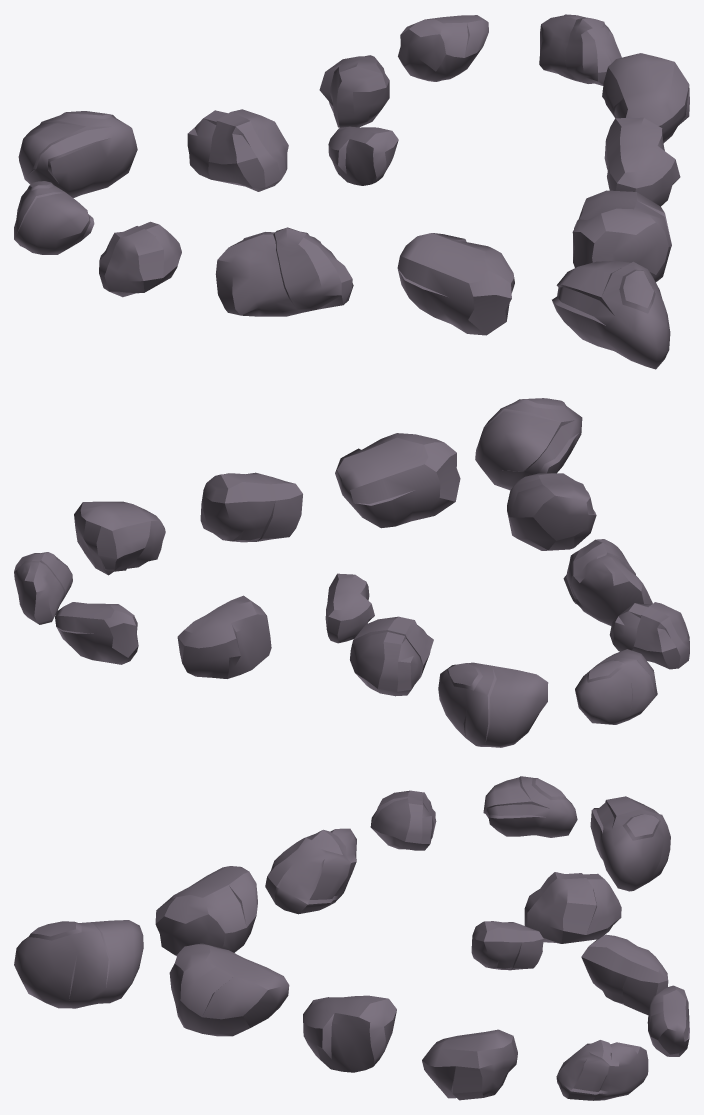
Rendered from P_Stone_heart_LD.fbx.
3 renders of one model, top to bottom at view 1: azimuth 30°, elevation 25°; view 2: azimuth 150°, elevation 25°; view 3: azimuth 270°, elevation 25°, orthographic. The views are drawn at different scales.
Parts seen in each view (by area): view 1: P_Stone_heart; view 2: P_Stone_heart; view 3: P_Stone_heart.
Part boxes in pixels (x1,y1,x2,y2): P_Stone_heart: (14,14,689,369); P_Stone_heart: (14,398,689,747); P_Stone_heart: (14,776,689,1100).
Size of the model in its own units: 197 by 25.26 by 194.
